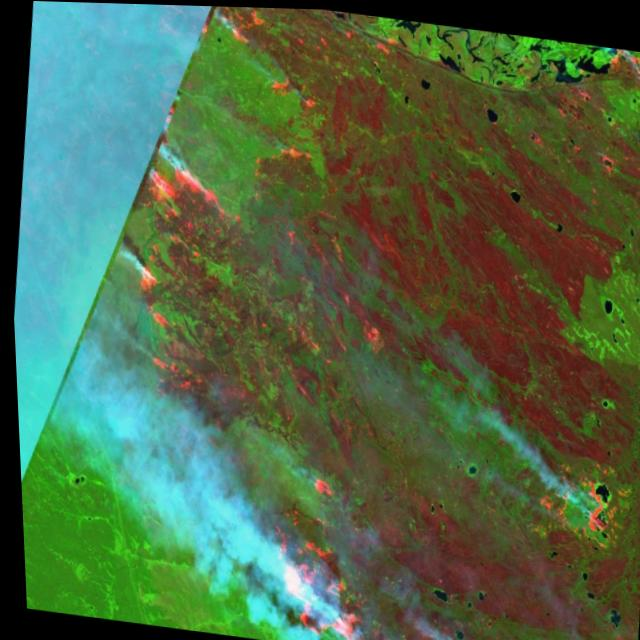fire: (110, 143, 244, 325), (251, 490, 375, 640), (537, 438, 632, 565), (207, 5, 303, 100), (591, 41, 640, 90)
